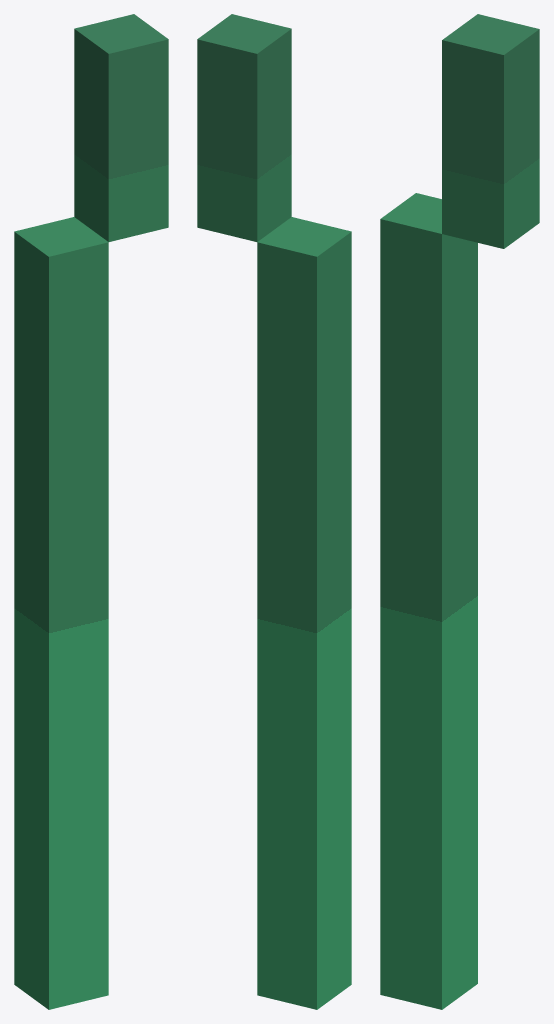
File: vine7.fbx
3 renders of one model, left to right at view 1: azimuth 30°, elevation 25°; view 2: azimuth 150°, elevation 25°; view 3: azimuth 330°, elevation 25°, orthographic. The views are drawn at different scales.
Parts seen in each view (by area): view 1: vine7; view 2: vine7; view 3: vine7.
Boxes of the visible parts, x1,y1,x2,y2 form: vine7: (14, 14, 168, 1009); vine7: (197, 14, 351, 1009); vine7: (380, 14, 539, 1009).
Bounding box in the file's own units: 2 × 15 × 1.
1 material, 1 textured.
